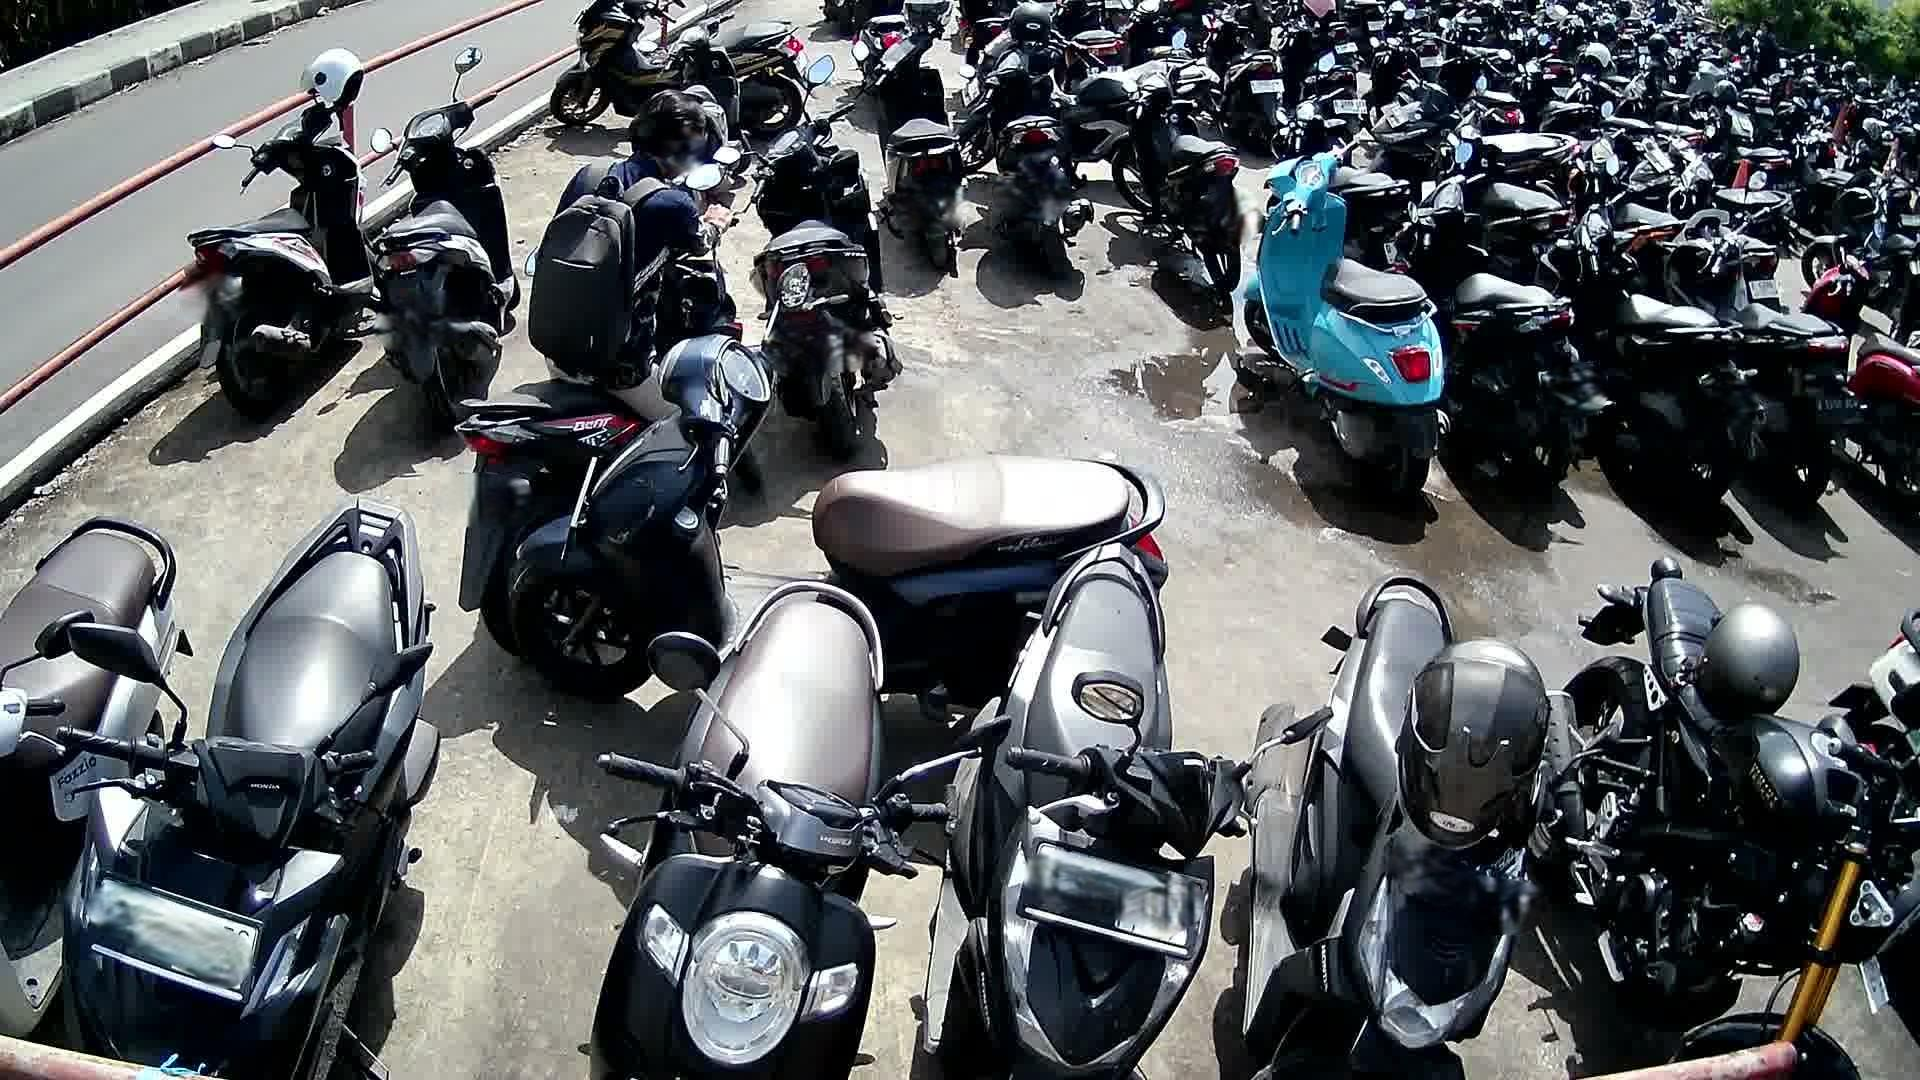motorcycle: (508, 261, 1167, 699), (61, 502, 451, 1080), (1531, 554, 1920, 1079), (916, 542, 1273, 1080), (597, 584, 948, 1080), (1255, 567, 1568, 1080), (460, 262, 742, 661), (0, 513, 195, 1036), (1236, 133, 1455, 502), (1394, 174, 1615, 496), (1536, 189, 1762, 501), (181, 102, 378, 421), (1652, 212, 1861, 508), (748, 96, 905, 455), (368, 95, 526, 411), (1805, 251, 1920, 514)
